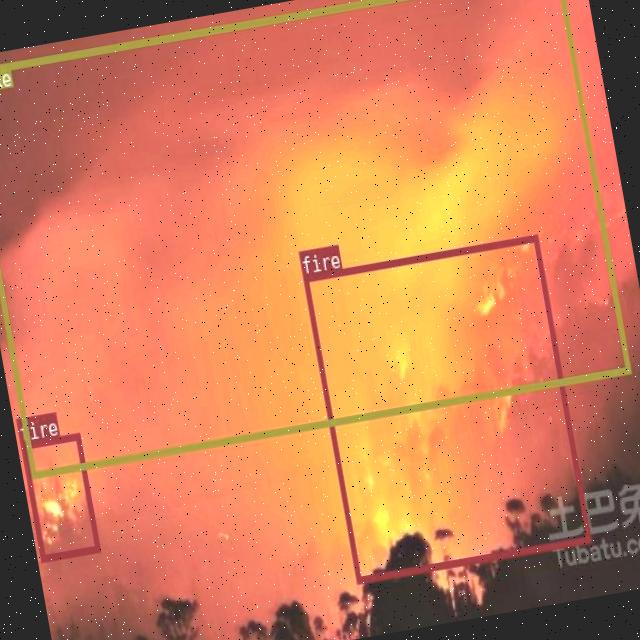fire: (302, 233, 590, 582), (19, 431, 99, 561)
smoke: (0, 0, 630, 476)
